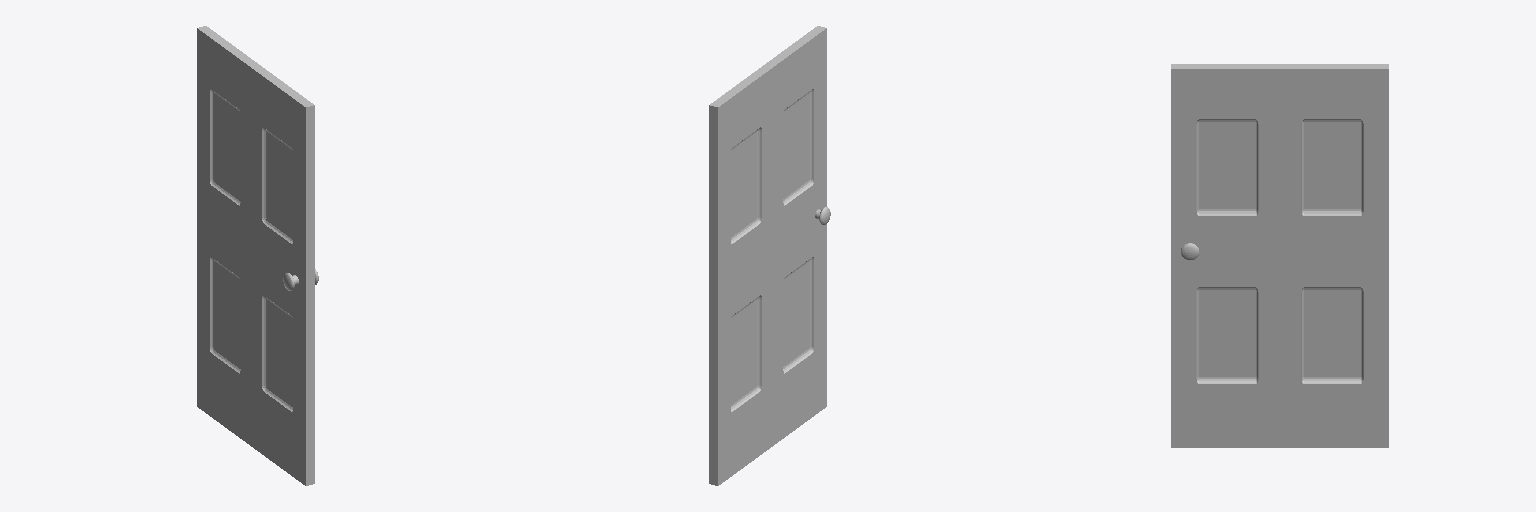
File: Door.obj
3 renders of one model, left to right at view 1: azimuth 30°, elevation 25°; view 2: azimuth 150°, elevation 25°; view 3: azimuth 270°, elevation 25°, orthographic.
Parts seen in each view (by area): view 1: Cube; view 2: Cube; view 3: Cube.
Boxes of the visible parts, x1=… form: Cube: x1=197, y1=26, x2=314, y2=485; Cube: x1=709, y1=26, x2=826, y2=485; Cube: x1=1171, y1=64, x2=1388, y2=447.
Size of the model in its own units: 0.6584 by 7.81 by 4.06.